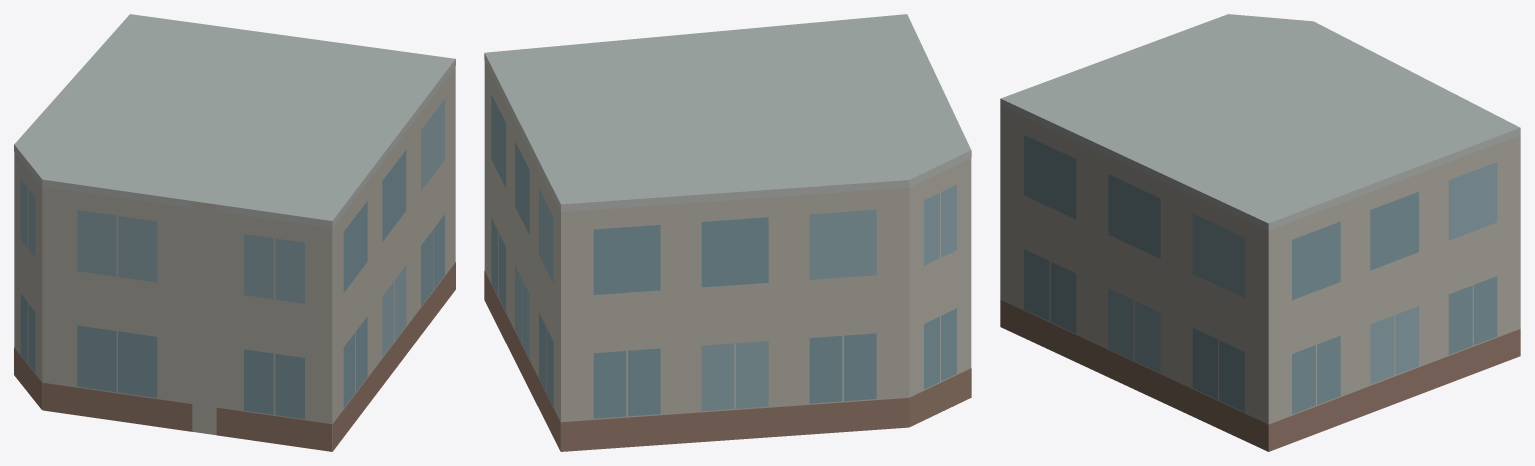
The model's file is survey-upis-32638910.glb.
The picture shows the model from 3 angles, left to right: view 1: azimuth 30°, elevation 25°; view 2: azimuth 150°, elevation 25°; view 3: azimuth 270°, elevation 25°; orthographic projection. The views are drawn at different scales.
Visible parts, largest first — view 1: survey-upis-32638910.tmp; view 2: survey-upis-32638910.tmp; view 3: survey-upis-32638910.tmp.
Part boxes in pixels (x1,y1,x2,y2): survey-upis-32638910.tmp: (14,14,455,451); survey-upis-32638910.tmp: (484,14,971,451); survey-upis-32638910.tmp: (1000,14,1520,451).
Bounding box in the file's own units: 15.35 × 7.8 × 16.11.
